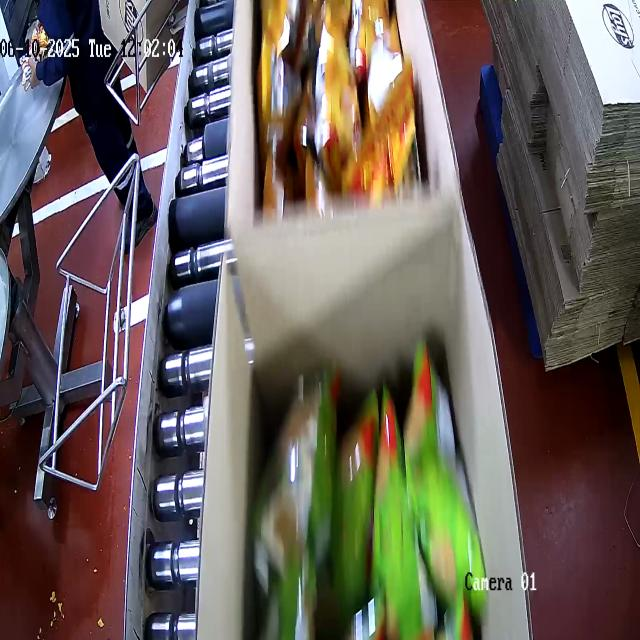FRENCH_CHEESE: (262, 0, 409, 208)
YOGURT_HERB: (247, 361, 481, 640)
